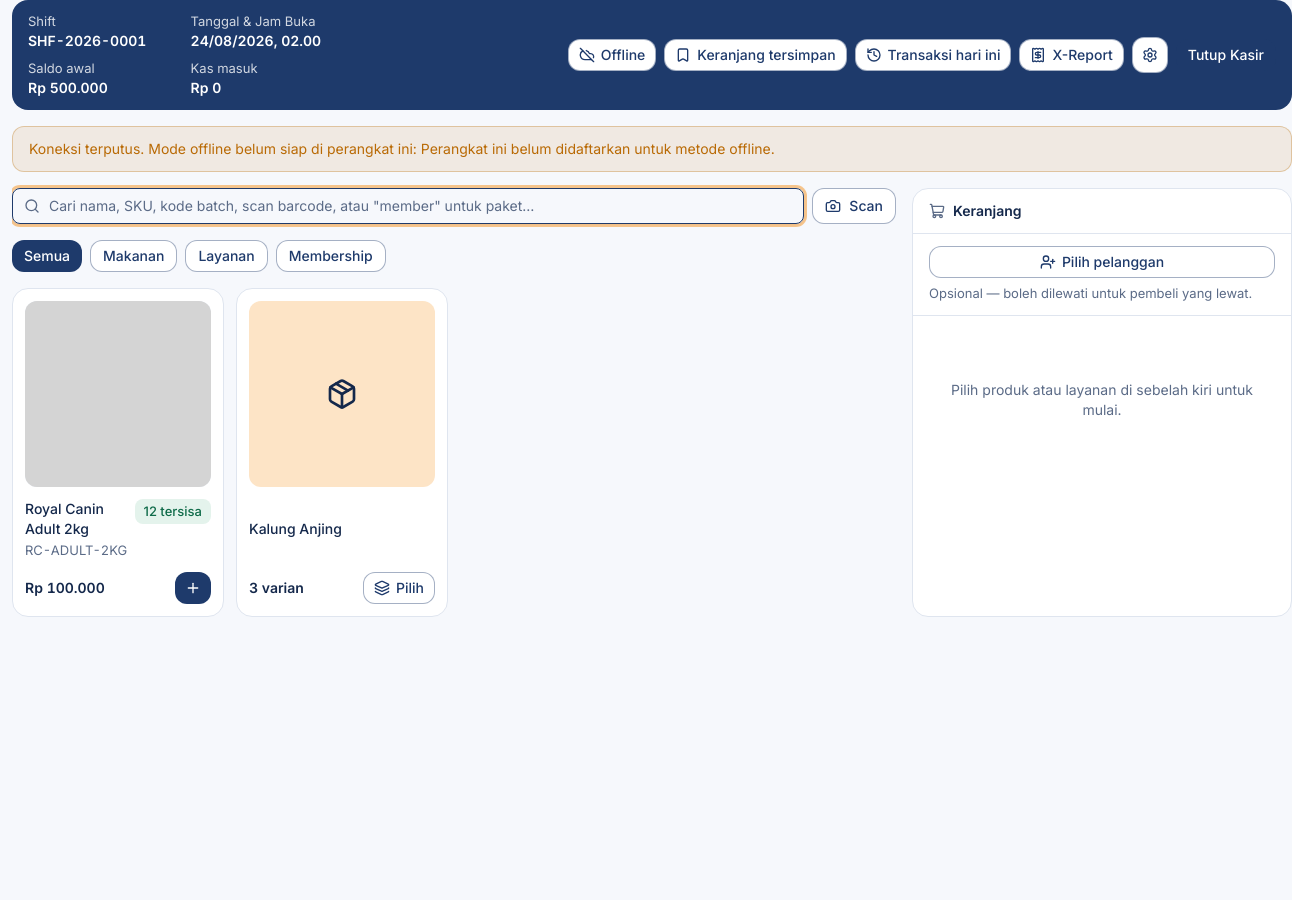
Test: PosScreen — the basket › says plainly that PPN is settled at payment
The width and height of the screenshot is (1292, 900).
What coordinates should you click on to do the following:
click the button named "tambah royal canin"
I would click on:
 (193, 588)
Its box is [175,572,211,604].
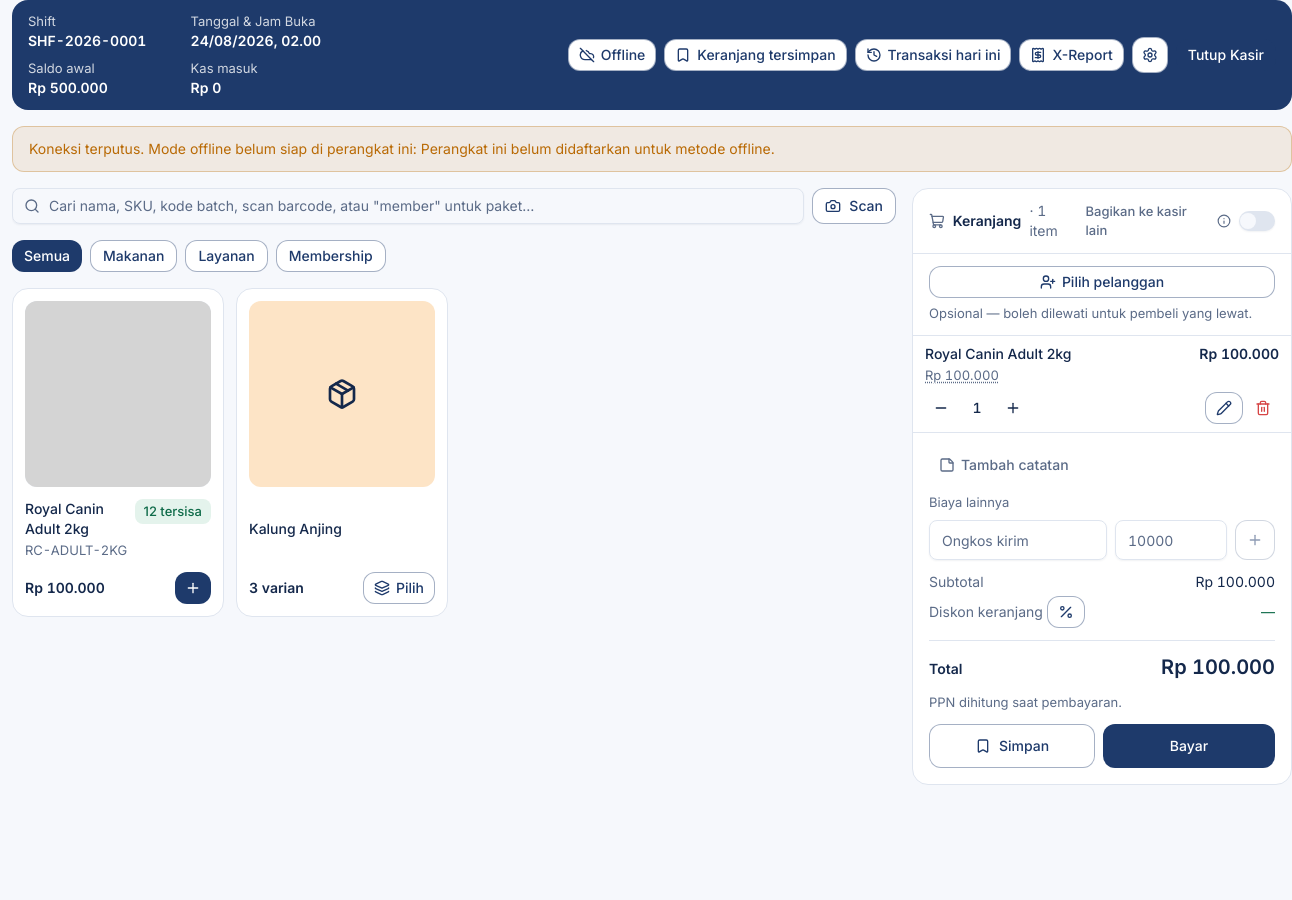
Check: the text "PPN dihitung saat pembayaran." is shown, box [929,694,1122,710]
